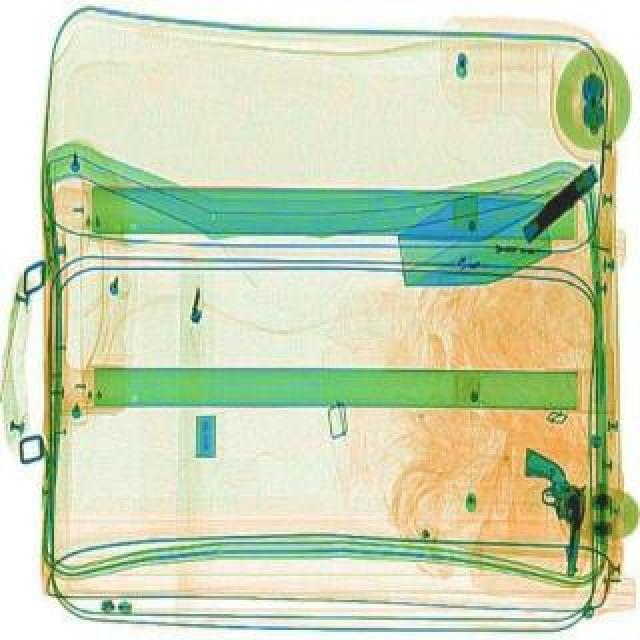gun: (506, 448, 600, 576), (516, 160, 608, 244)
